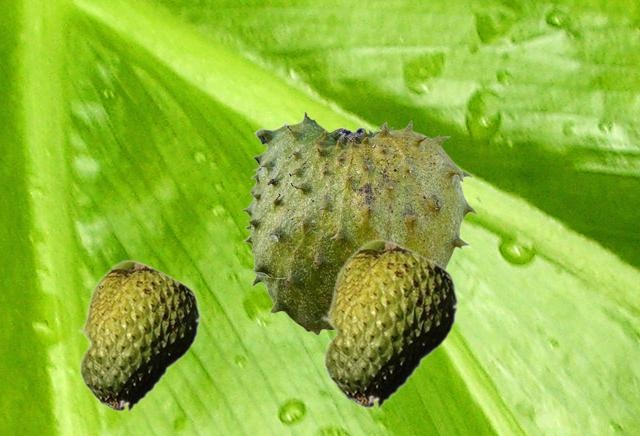guyabano: (241, 110, 476, 334), (321, 238, 458, 410), (77, 259, 200, 413)
